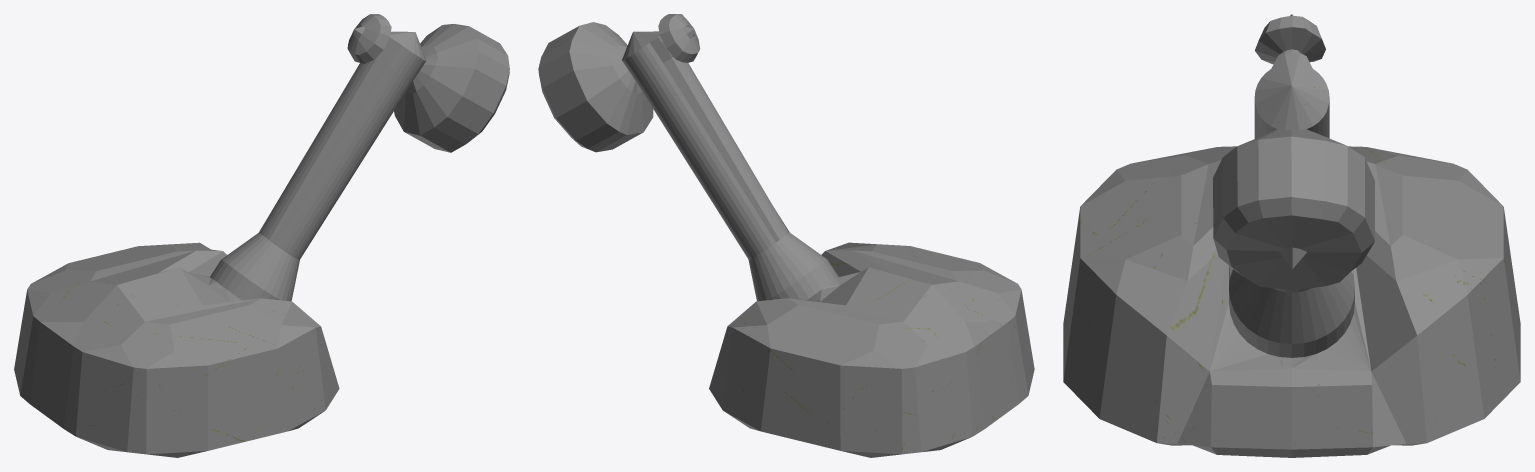
The model's file is Hammer.fbx.
3 views of the same model, side by side, from view 1: azimuth 30°, elevation 25°; view 2: azimuth 150°, elevation 25°; view 3: azimuth 270°, elevation 25° (orthographic). The views are drawn at different scales.
Parts seen in each view (by area): view 1: Hammer; view 2: Hammer; view 3: Hammer.
Part boxes in pixels (box(x1,y1,x2,y2)): Hammer: box(14, 14, 509, 457); Hammer: box(538, 14, 1034, 457); Hammer: box(1063, 14, 1520, 457).
Bounding box in the file's own units: 892 × 1186 × 1551.
